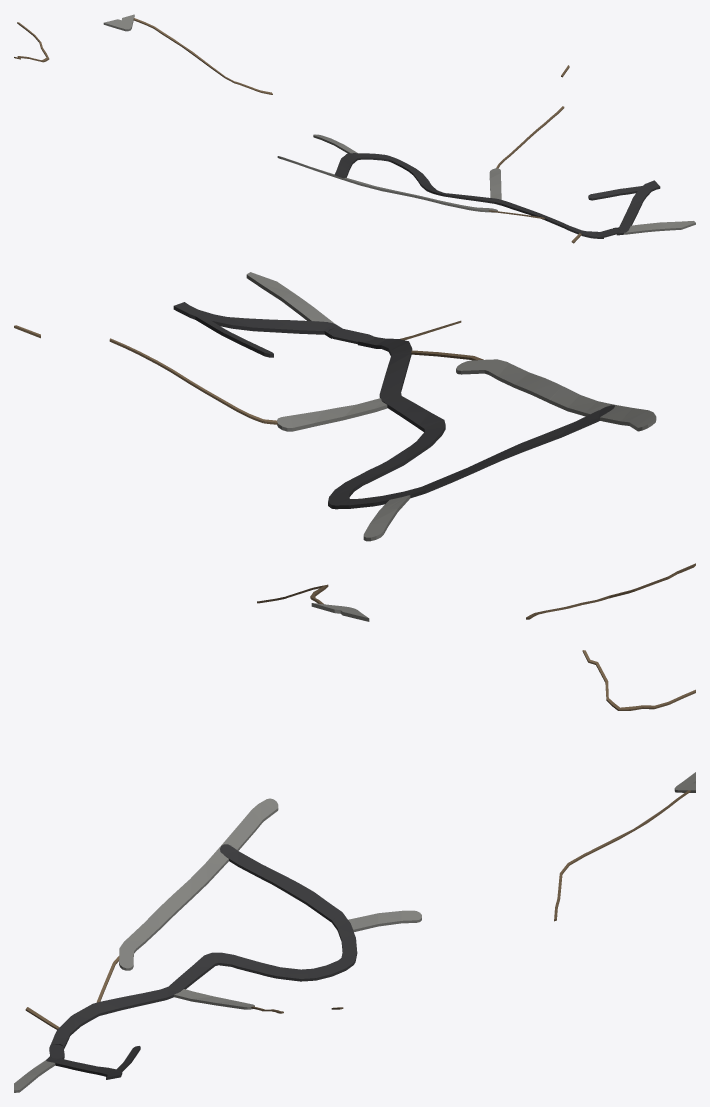
The model's file is 17-109436-59488.cecc857d.glb.
3 renders of one model, top to bottom at view 1: azimuth 30°, elevation 25°; view 2: azimuth 150°, elevation 25°; view 3: azimuth 270°, elevation 25°, orthographic. The views are drawn at different scales.
Size of the model in its own units: 293 by 75.28 by 292.
